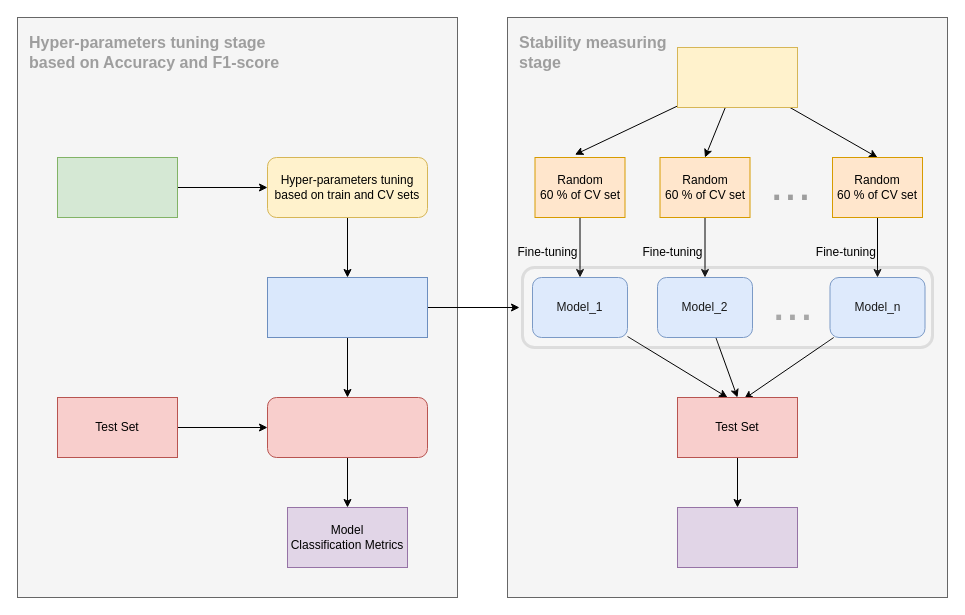
Some shapes in this 965 by 615 pixel diagram are drawn without their labels. The centre of each missing label's shape, as x and y in pixels:
"CV Set" belongs at (x=737, y=77).
"Evaluation" belongs at (x=347, y=427).
"Fitted model with the best hyper-parameters" belongs at (x=347, y=307).
"Initial Train Set" belongs at (x=117, y=187).
"Model Stability Metrics" belongs at (x=737, y=537).
